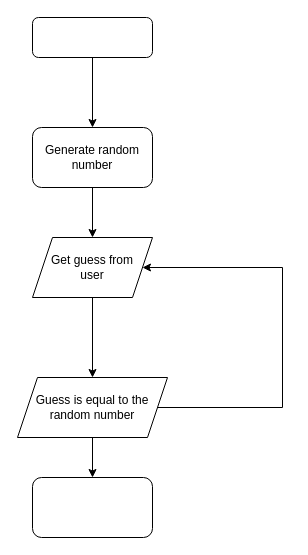
Some shapes in this 308 by 555 pixel diagram are drawn without their labels. The box of each missing label's shape, as (x1, y1, x2, y2) in pixels:
Begin: (32, 16, 152, 58)
End: (32, 476, 152, 538)
